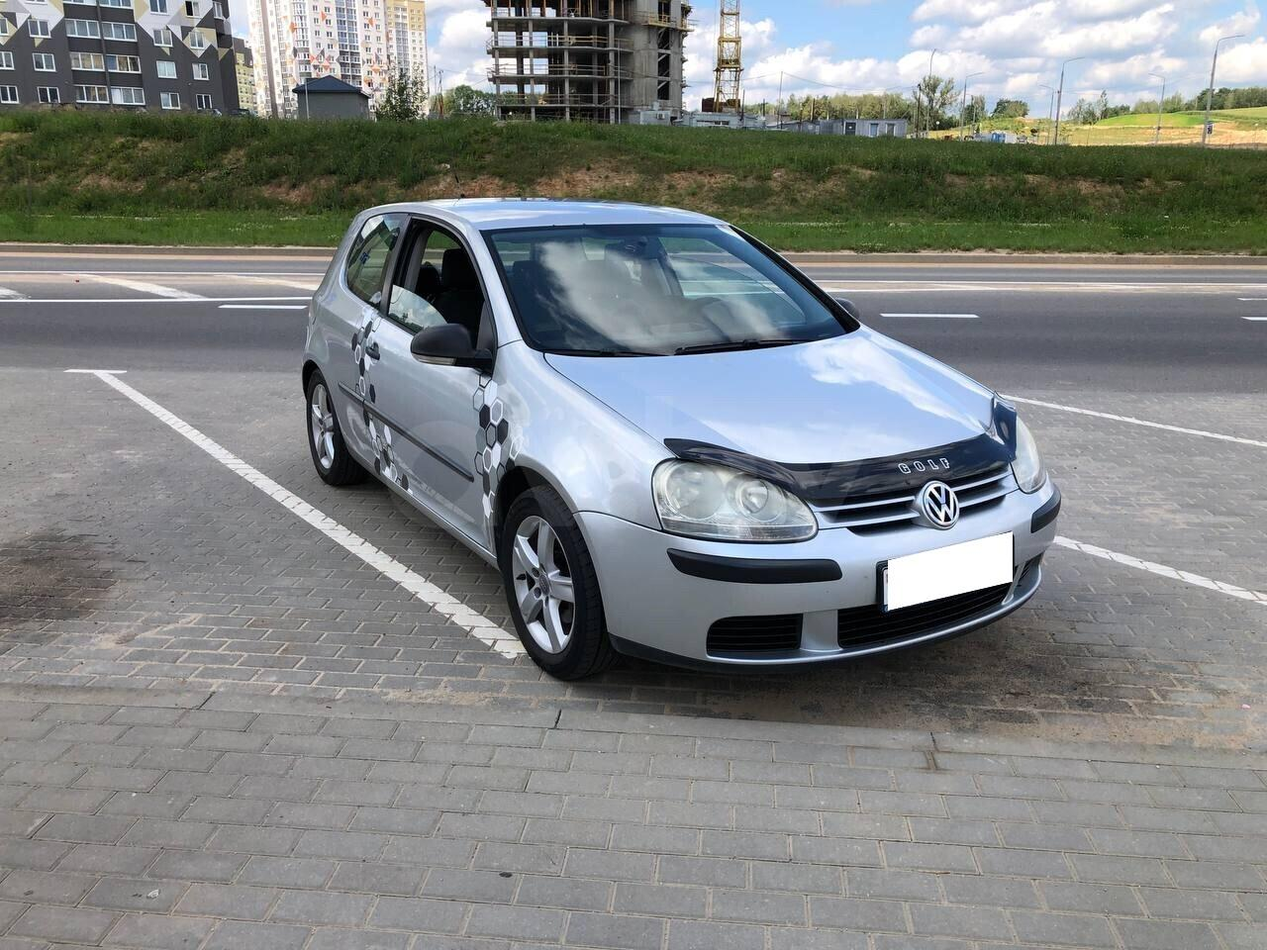Golf_2003-2009: (300, 195, 1069, 710)
